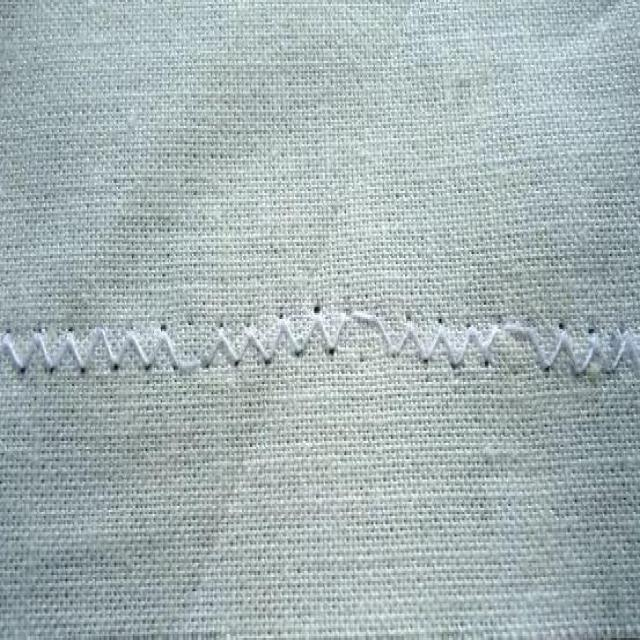gray stitch: (2, 309, 639, 376)
